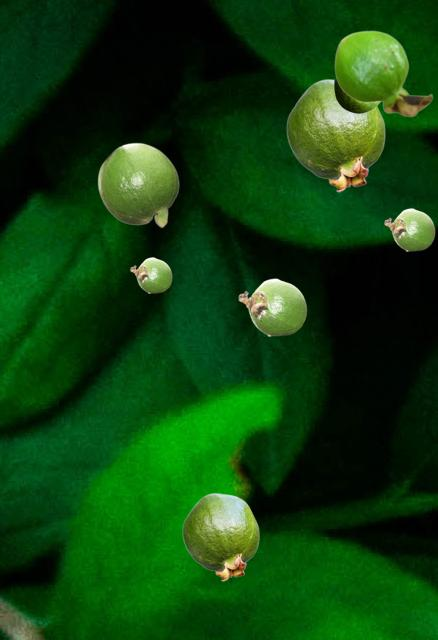guava: (286, 79, 384, 191), (334, 30, 432, 116), (97, 142, 178, 227), (182, 493, 258, 580), (238, 278, 306, 335), (384, 208, 434, 250), (334, 78, 379, 112), (130, 257, 171, 292)
